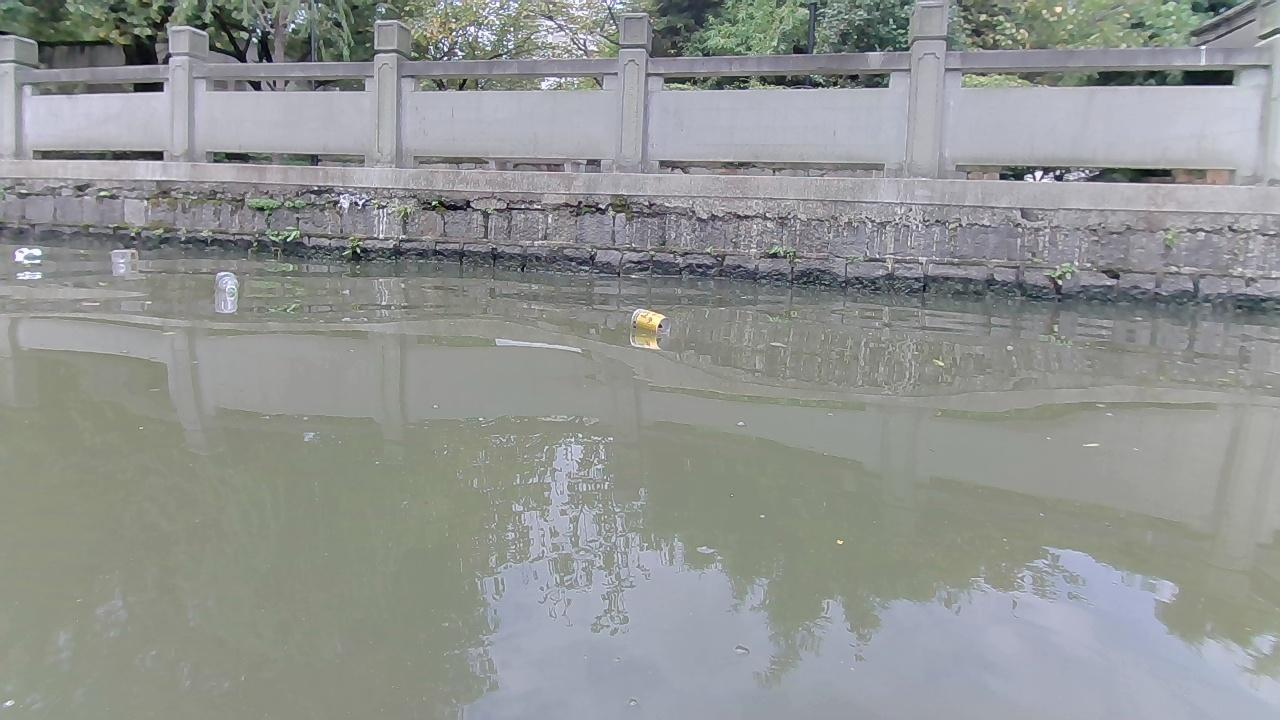bottle: (628, 307, 670, 333), (214, 270, 238, 292), (110, 248, 138, 262), (13, 246, 42, 259)
